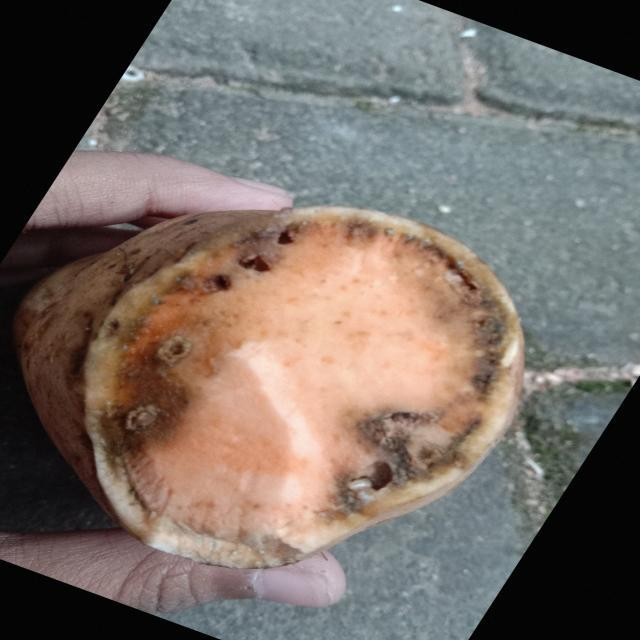Sick Sweet Potato_Tuber Rot: (85, 206, 523, 568)
